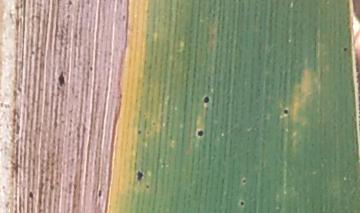tarspot: (57, 69, 68, 90), (135, 168, 145, 183), (195, 128, 207, 139), (202, 95, 212, 106), (281, 106, 290, 116), (27, 191, 35, 200), (240, 178, 248, 185), (238, 200, 246, 207), (98, 190, 104, 199), (343, 45, 348, 53), (136, 129, 142, 135)
